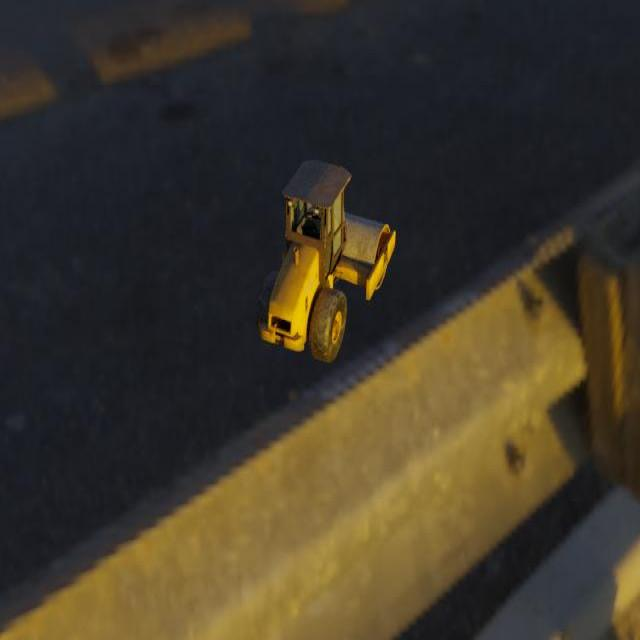Roller: (256, 158, 395, 362)
